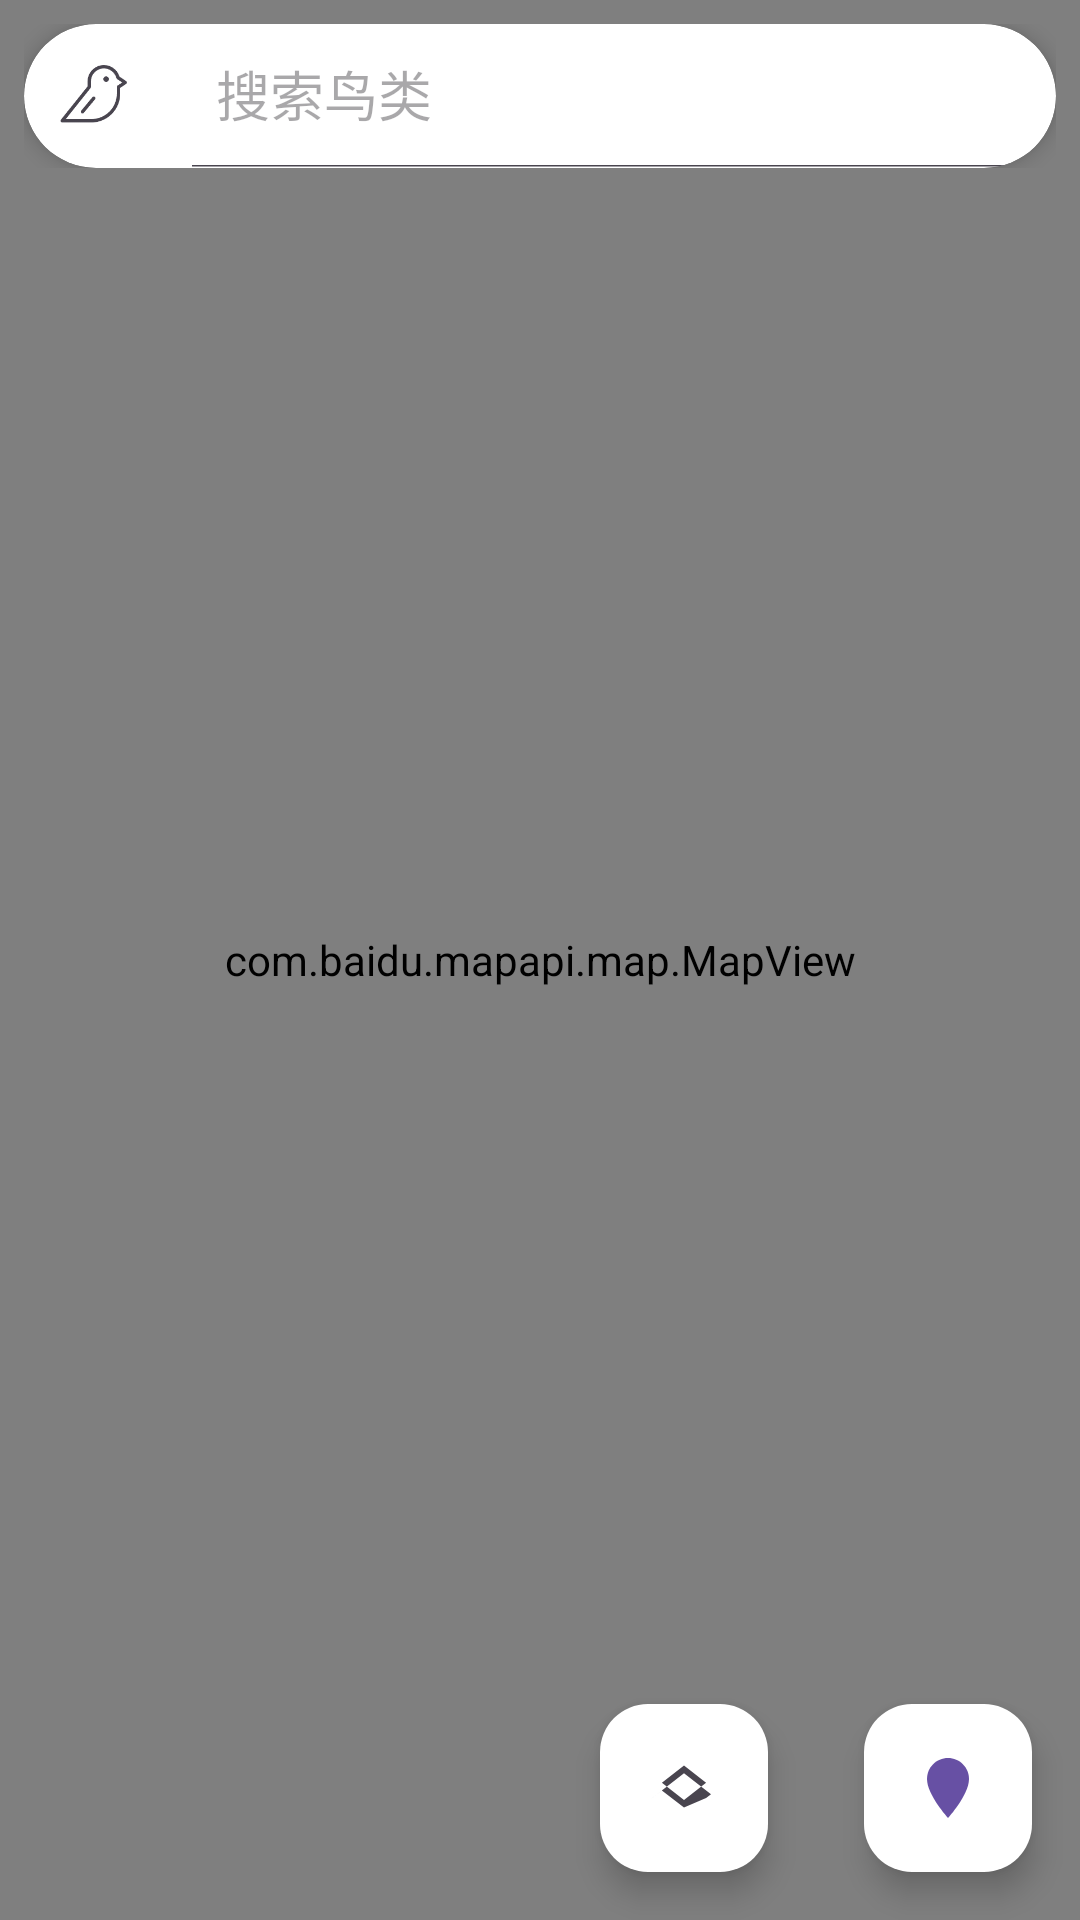

Icons on this 1080px×1920px Android screen, each with its box as (left=x1, top=y1, right=x2, bottom=y2):
切换搜索模式: (left=24, top=24, right=168, bottom=168)
切换记录可见性: (left=600, top=1704, right=768, bottom=1872)
定位到我的位置: (left=864, top=1704, right=1032, bottom=1872)
